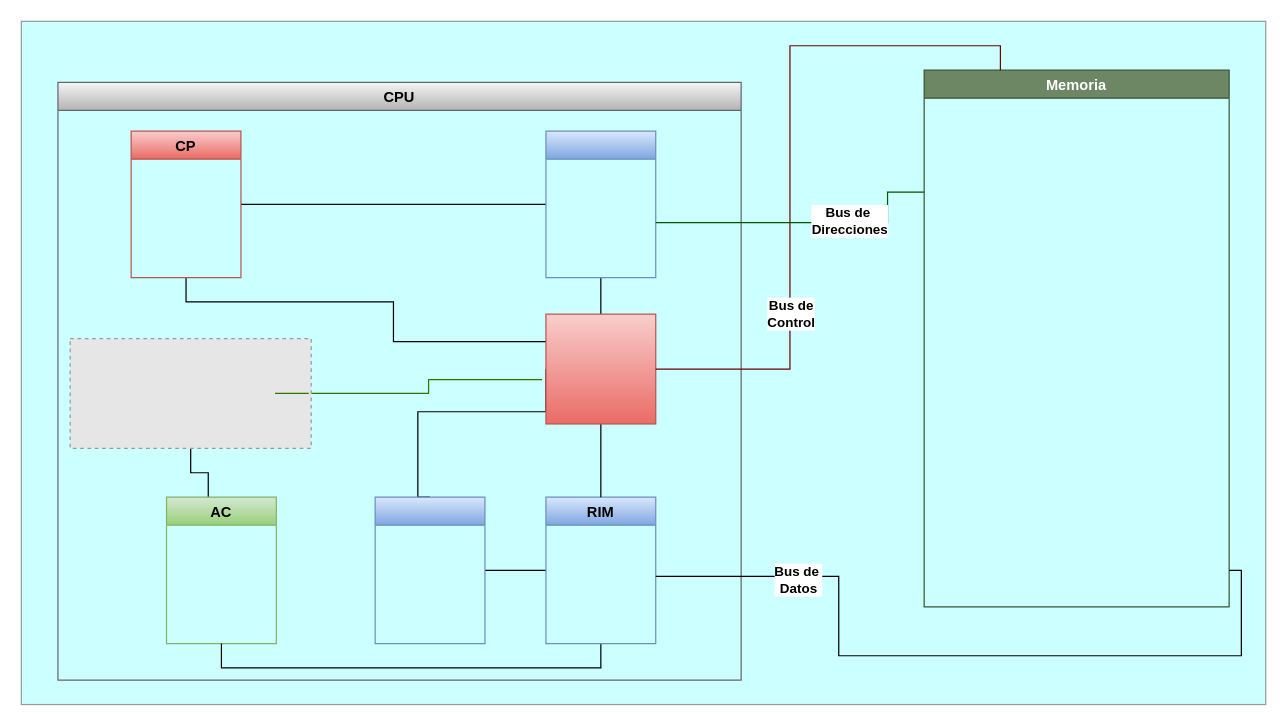
The diagram is 1287 pixels wide and 726 high, and some of its shapes have lost their labels. Grey dashed boxes stand in for pictures. The shapes that lost their labels are listed below. From the top down, each one's box as (x1, y1, x2, y2) in pixels, then its label:
(545, 130, 656, 278): RDM
(545, 313, 656, 424): Unidad de Control
(374, 496, 485, 644): RI
